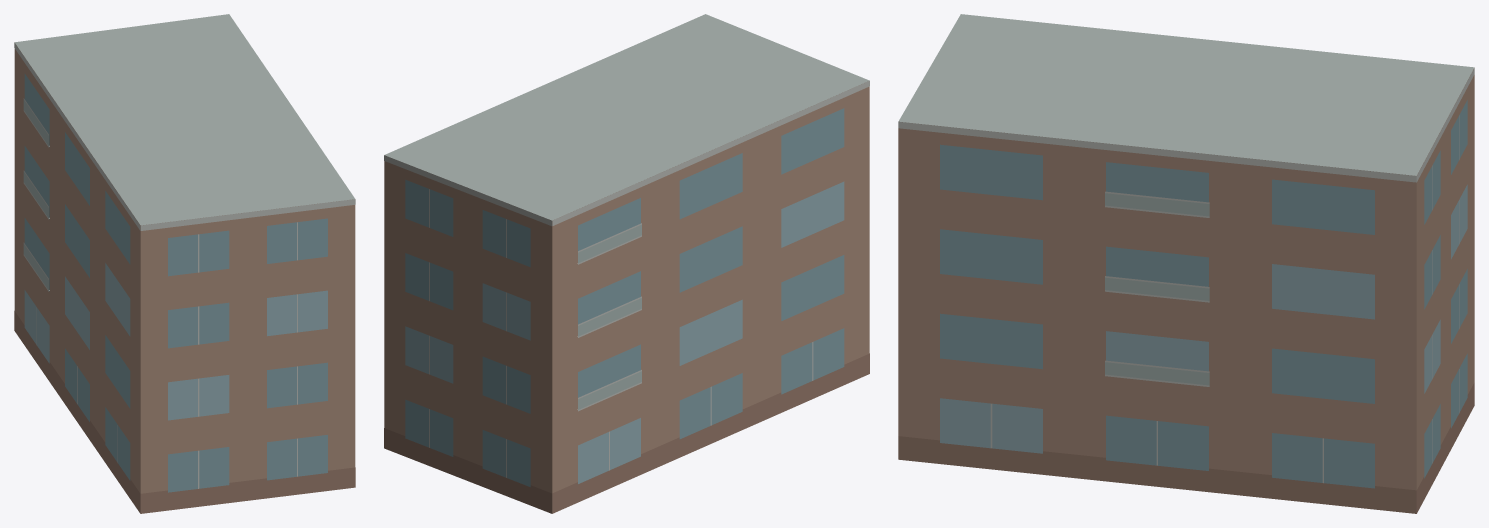
Rendered from survey-upis-32944041.glb.
The picture shows the model from 3 angles, left to right: view 1: azimuth 30°, elevation 25°; view 2: azimuth 150°, elevation 25°; view 3: azimuth 270°, elevation 25°; orthographic projection. The views are drawn at different scales.
Parts seen in each view (by area): view 1: survey-upis-32944041.tmp; view 2: survey-upis-32944041.tmp; view 3: survey-upis-32944041.tmp.
Boxes of the visible parts, box(x1,y1,x2,y2) form: survey-upis-32944041.tmp: box(14, 14, 355, 513); survey-upis-32944041.tmp: box(384, 14, 869, 513); survey-upis-32944041.tmp: box(898, 14, 1474, 513).
Bounding box in the file's own units: 12.75 × 12.4 × 19.18.
